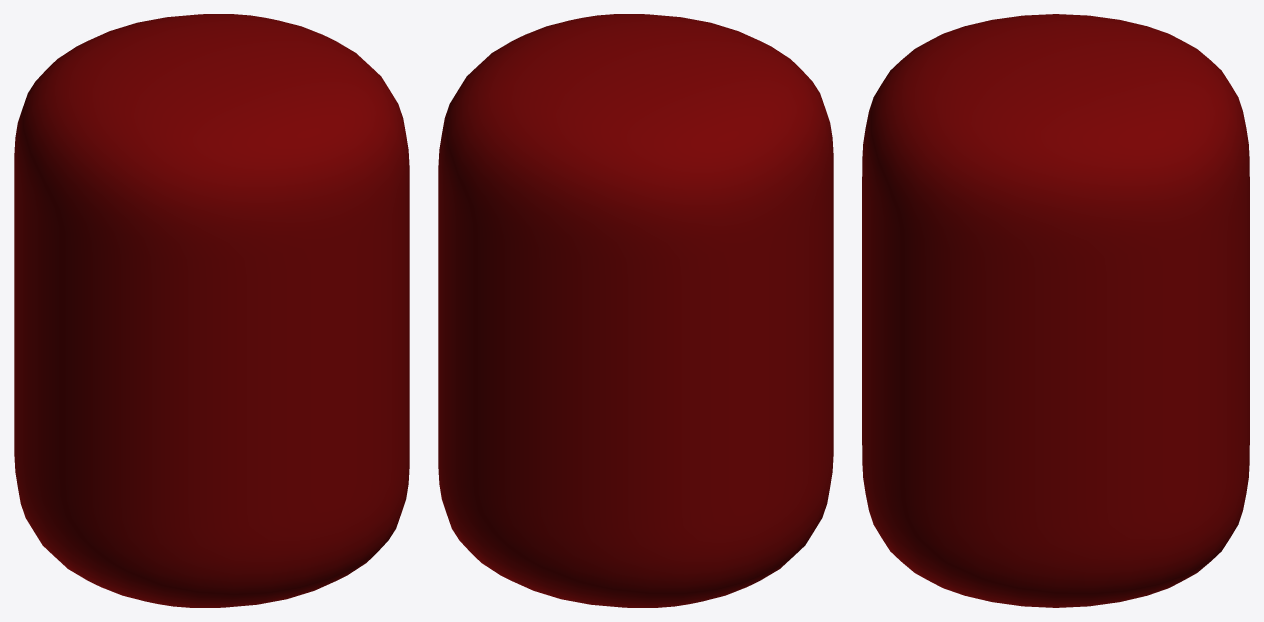
File: punch-target-red.glb
The picture shows the model from 3 angles, left to right: view 1: azimuth 30°, elevation 25°; view 2: azimuth 150°, elevation 25°; view 3: azimuth 270°, elevation 25°; orthographic projection.
Parts seen in each view (by area): view 1: Cube; view 2: Cube; view 3: Cube.
Boxes of the visible parts, box(x1,y1,x2,y2) form: Cube: box(14, 14, 409, 607); Cube: box(438, 14, 833, 607); Cube: box(862, 14, 1249, 607).
Size of the model in its own units: 0.2292 by 0.336 by 0.2292.
